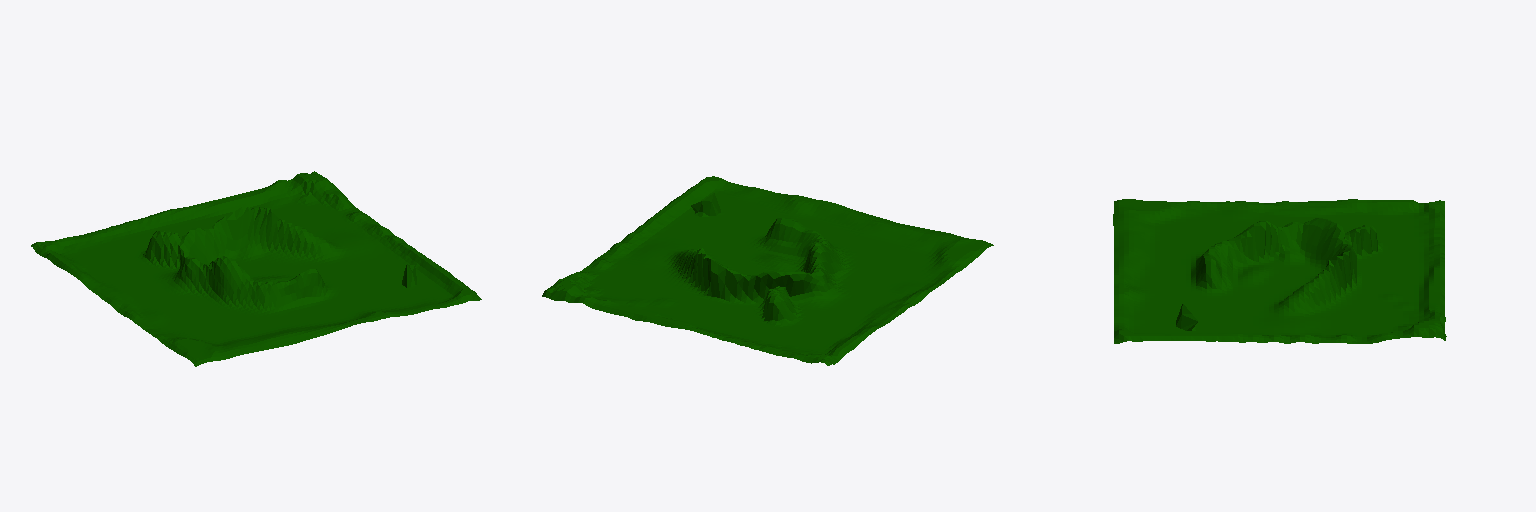
The model's file is Level_1_alt.obj.
3 views of the same model, side by side, from view 1: azimuth 30°, elevation 25°; view 2: azimuth 150°, elevation 25°; view 3: azimuth 270°, elevation 25° (orthographic).
Parts seen in each view (by area): view 1: Mesh_Mesh_Plane_; view 2: Mesh_Mesh_Plane_; view 3: Mesh_Mesh_Plane_.
Part boxes in pixels (left/top/right/bottom): Mesh_Mesh_Plane_: left=31, top=171, right=481, bottom=366; Mesh_Mesh_Plane_: left=542, top=176, right=993, bottom=365; Mesh_Mesh_Plane_: left=1113, top=199, right=1446, bottom=343.
Size of the model in its own units: 20.05 by 2.4 by 20.13.